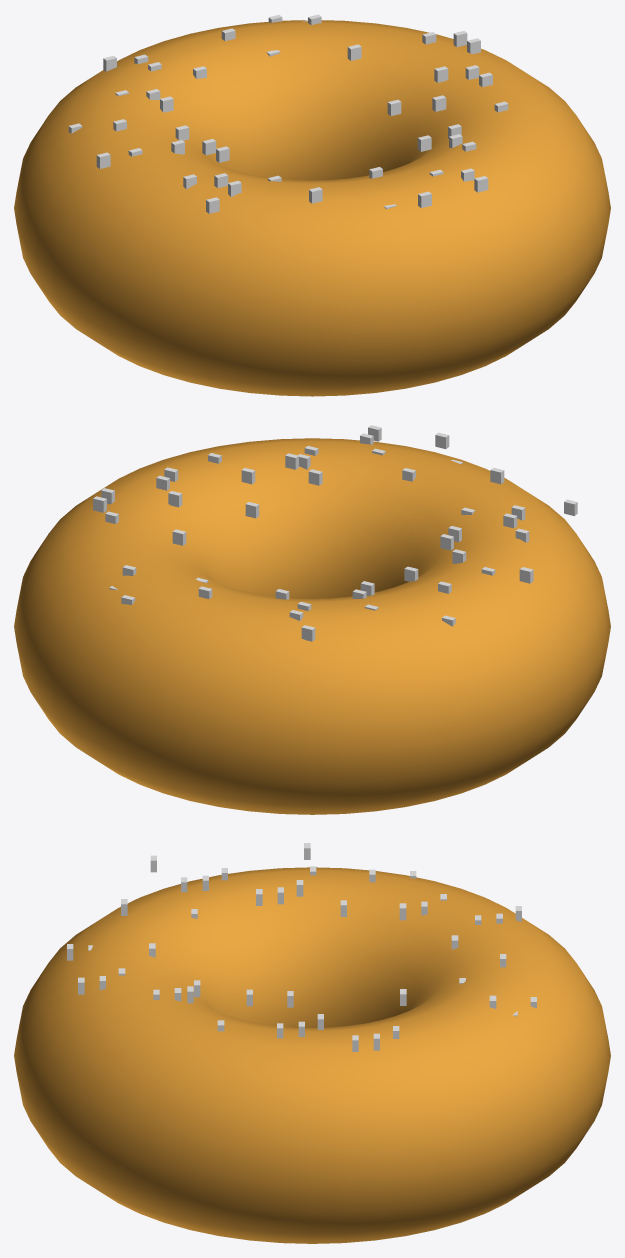
Rendered from bagel.fbx.
3 views of the same model, one above another, from view 1: azimuth 30°, elevation 25°; view 2: azimuth 150°, elevation 25°; view 3: azimuth 270°, elevation 25° (orthographic).
Visible parts, largest first — view 1: donut; view 2: donut; view 3: donut.
Part boxes in pixels (x1,y1,x2,y2): donut: (14,20,610,396); donut: (14,438,610,814); donut: (14,867,610,1243).
Size of the model in its own units: 31.4 by 12.01 by 31.4.
